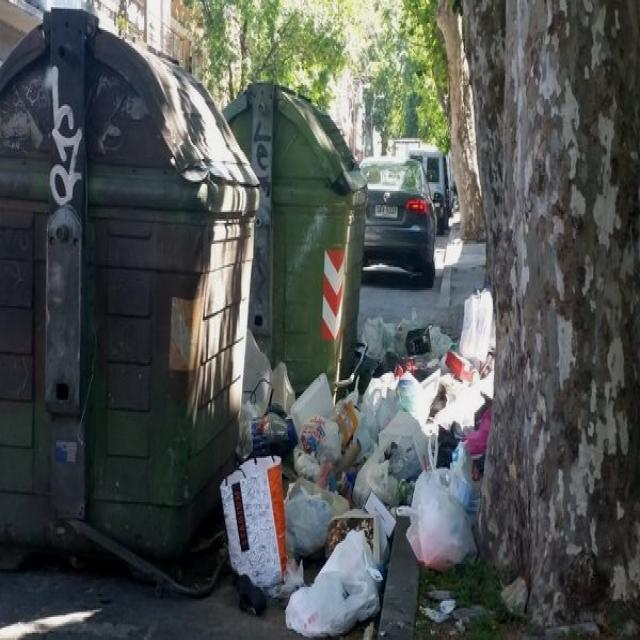high trash: (221, 289, 495, 638)
